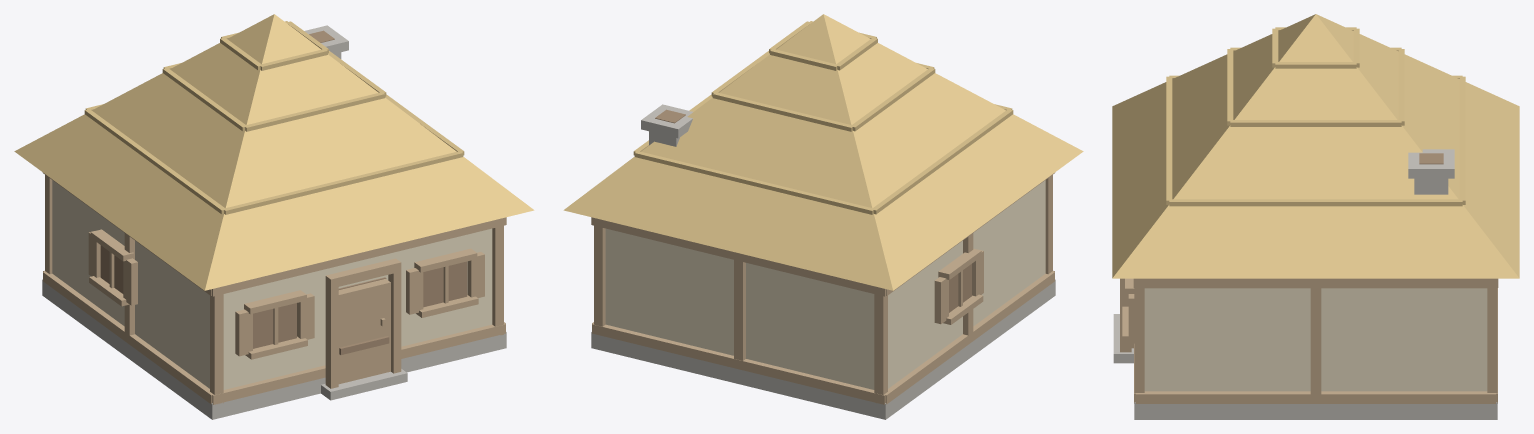
File: house-hip-roof.glb
The picture shows the model from 3 angles, left to right: view 1: azimuth 30°, elevation 25°; view 2: azimuth 150°, elevation 25°; view 3: azimuth 270°, elevation 25°; orthographic projection. The views are drawn at different scales.
Parts seen in each view (by area): view 1: house-hip-roof_roof, house-hip-roof_wood, house-hip-roof_plaster, house-hip-roof_stone, house-hip-roof_door, house-hip-roof_window; view 2: house-hip-roof_roof, house-hip-roof_plaster, house-hip-roof_wood, house-hip-roof_stone, house-hip-roof_window; view 3: house-hip-roof_roof, house-hip-roof_plaster, house-hip-roof_wood, house-hip-roof_stone.
Part boxes in pixels (x1=…): house-hip-roof_roof: x1=14, y1=14, x2=534, y2=290; house-hip-roof_wood: x1=42, y1=172, x2=506, y2=404; house-hip-roof_plaster: x1=52, y1=180, x2=492, y2=389; house-hip-roof_stone: x1=42, y1=25, x2=506, y2=419; house-hip-roof_door: x1=338, y1=278, x2=390, y2=384; house-hip-roof_window: x1=100, y1=30, x2=467, y2=354; house-hip-roof_roof: x1=563, y1=14, x2=1083, y2=290; house-hip-roof_plaster: x1=605, y1=180, x2=1045, y2=389; house-hip-roof_wood: x1=591, y1=172, x2=1055, y2=404; house-hip-roof_stone: x1=591, y1=104, x2=1055, y2=419; house-hip-roof_window: x1=655, y1=109, x2=971, y2=312; house-hip-roof_roof: x1=1112, y1=14, x2=1519, y2=278; house-hip-roof_plaster: x1=1144, y1=288, x2=1487, y2=391; house-hip-roof_wood: x1=1120, y1=278, x2=1498, y2=403; house-hip-roof_stone: x1=1113, y1=149, x2=1497, y2=419.
Size of the model in its own units: 2 by 1.79 by 2.
